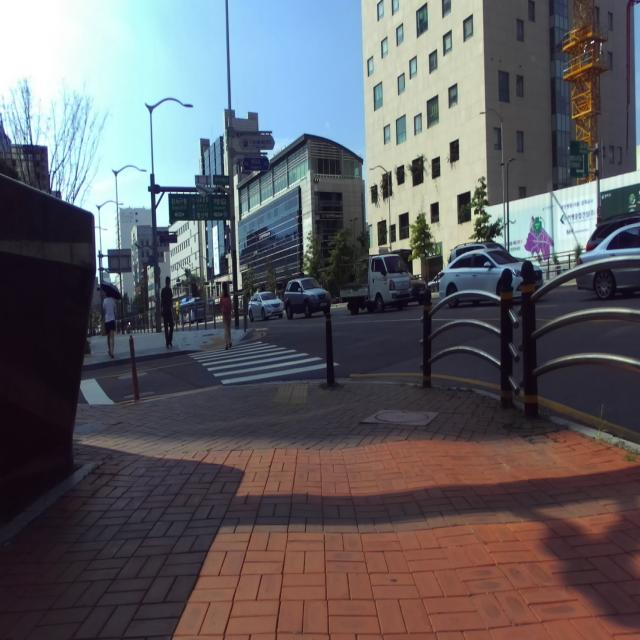횡단보도: (188, 341, 340, 384)
